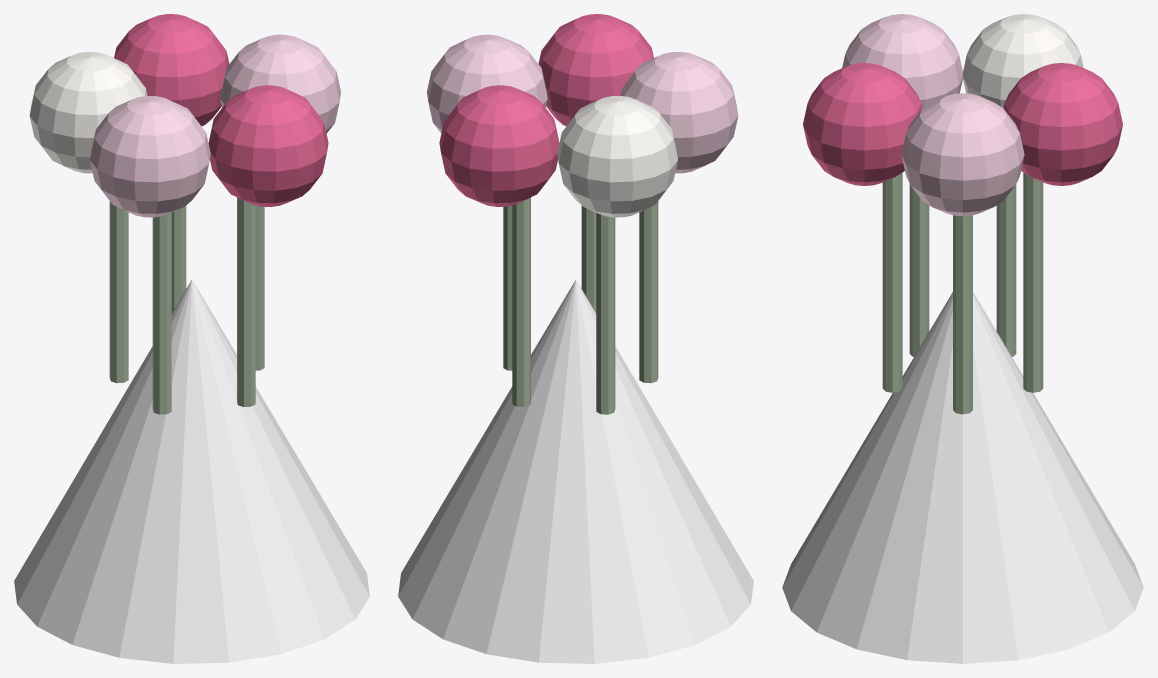
Rendered from sibol-bouquet.glb.
The picture shows the model from 3 angles, left to right: view 1: azimuth 30°, elevation 25°; view 2: azimuth 150°, elevation 25°; view 3: azimuth 270°, elevation 25°; orthographic projection.
Visible parts, largest first — view 1: SibolBouquet; view 2: SibolBouquet; view 3: SibolBouquet.
Boxes of the visible parts, box(x1,y1,x2,y2) form: SibolBouquet: box(14, 14, 369, 663); SibolBouquet: box(398, 14, 753, 663); SibolBouquet: box(782, 14, 1143, 663).
Bounding box in the file's own units: 0.44 × 0.715 × 0.44.
